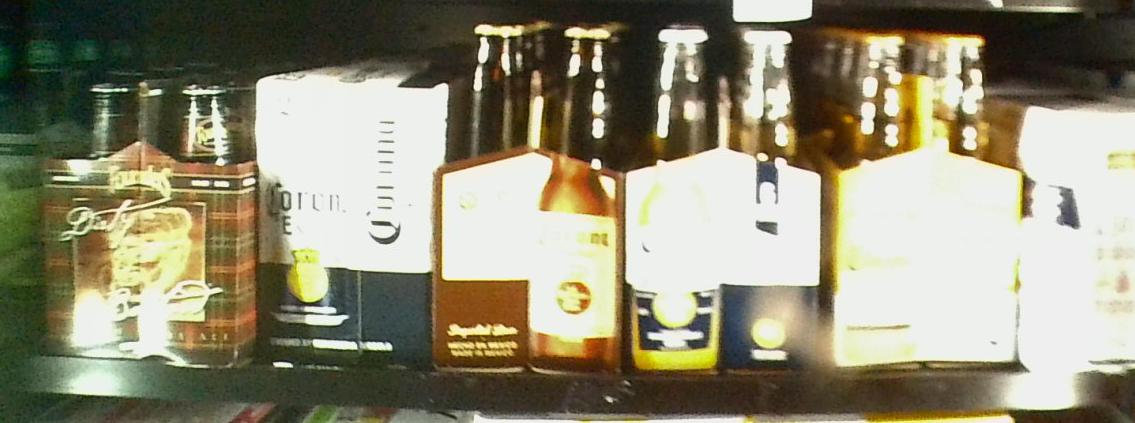bottle: (821, 25, 1010, 378), (628, 23, 818, 374), (440, 22, 628, 366), (46, 70, 257, 365), (255, 73, 433, 370), (1018, 107, 1135, 364)
